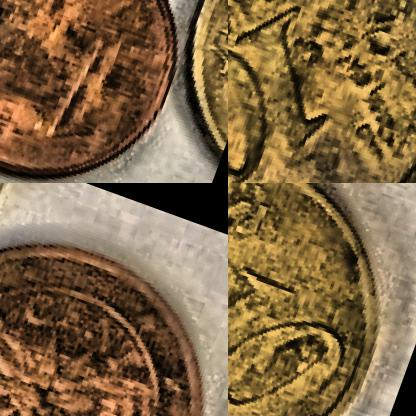coin: (0, 194, 227, 415), (228, 183, 415, 415), (0, 0, 216, 182), (228, 0, 415, 182)
